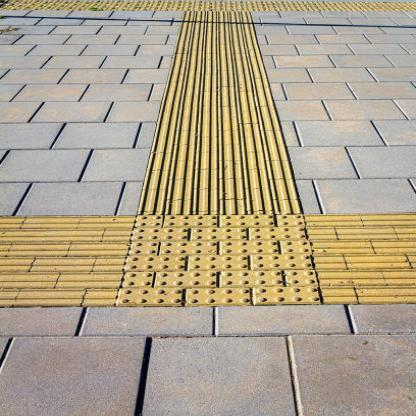podotacti: (0, 1, 416, 306)
